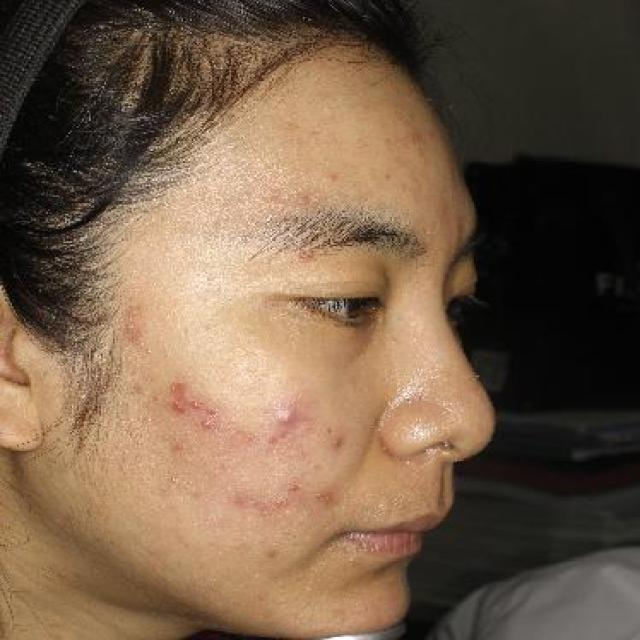papules: (272, 402, 300, 429), (329, 429, 349, 451), (188, 396, 206, 412), (274, 492, 289, 511), (287, 478, 303, 492)
pustules: (198, 416, 216, 432), (324, 170, 341, 184)
